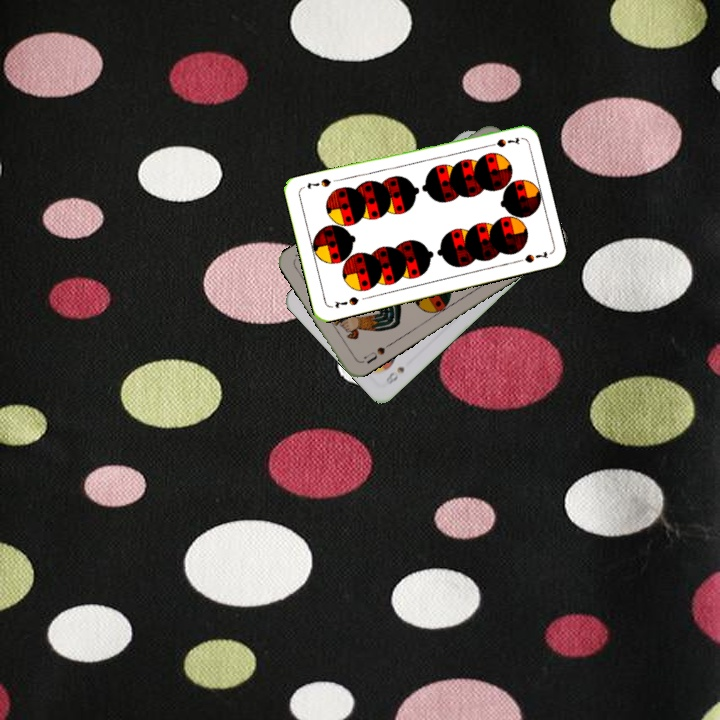S7: (482, 133, 522, 150), (331, 293, 361, 311)
S8: (382, 362, 407, 387)
SU: (359, 339, 394, 366)
